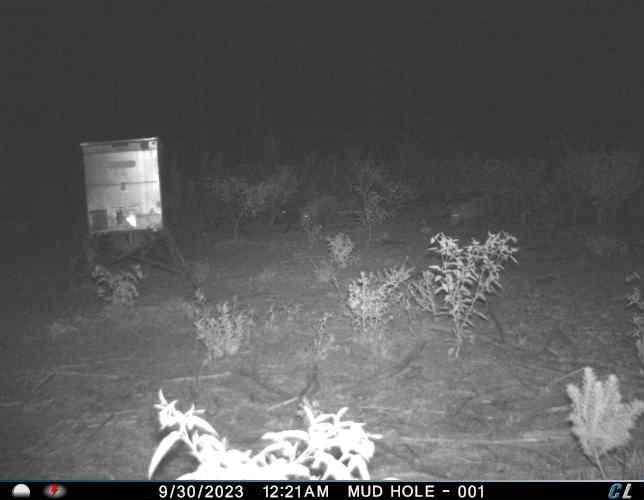Hog: (445, 194, 488, 232), (302, 192, 342, 232), (275, 198, 305, 237)
